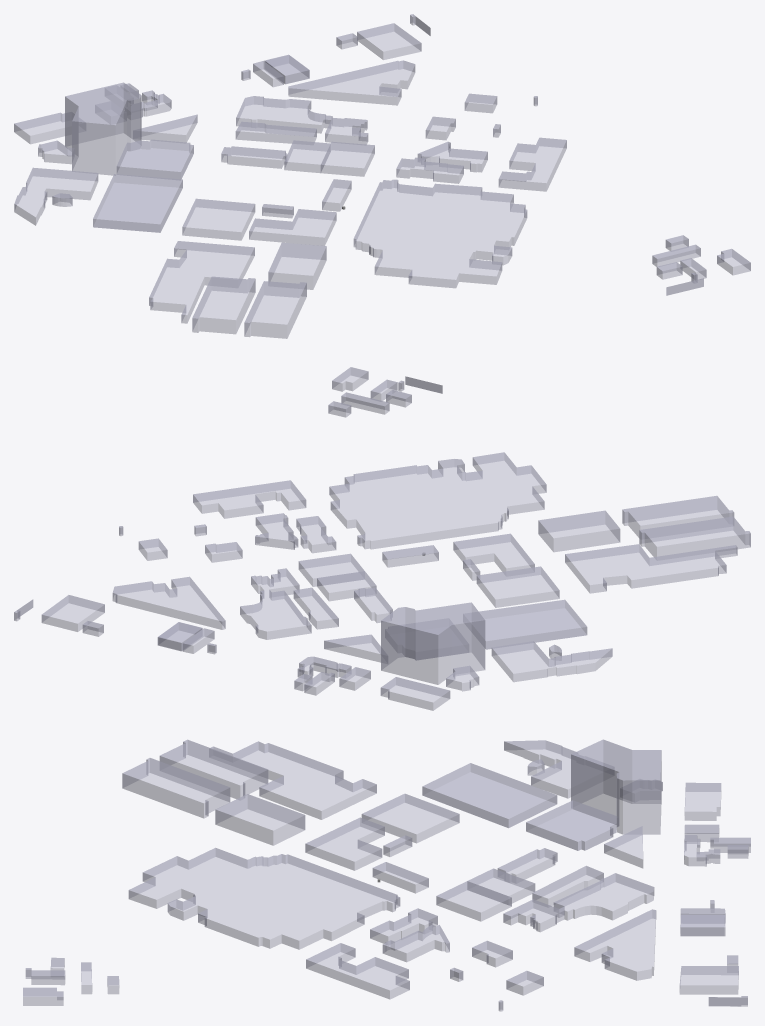
File: tile-buildings(-84.385000,33.750000,-84.380000,33.755000).osm.obj.postprocessed.obj
The picture shows the model from 3 angles, top to bottom: view 1: azimuth 30°, elevation 25°; view 2: azimuth 150°, elevation 25°; view 3: azimuth 270°, elevation 25°; orthographic projection. The views are drawn at different scales.
Visible parts, largest first — view 1: Building_Grady_Memorial_Hospital, Building_University_Lofts, Building_Student_Recreation_Center, Building_M_Deck, Building19, Building16, SurfaceParking_M_Deck, Building_N_Deck, Building_K_Deck, Building_Dahlberg_Hall, Building_Loft_Parking, Building15 (+22 smaller); view 2: Building_Grady_Memorial_Hospital, Building_University_Lofts, Building_Student_Recreation_Center, Building_M_Deck, Building19, Building16, Building_N_Deck, Building_Dahlberg_Hall, SurfaceParking_M_Deck, Building15, Building_S_Deck, Building_K_Deck (+21 smaller); view 3: Building_Grady_Memorial_Hospital, Building_University_Lofts, Building_Student_Recreation_Center, Building_M_Deck, Building16, Building_K_Deck, SurfaceParking_M_Deck, Building19, Building_N_Deck, Building15, Building_Loft_Parking, Building_S_Deck (+23 smaller).
Boxes of the visible parts, x1,y1,x2,y2 form: Building_Grady_Memorial_Hospital: [353, 179, 527, 288]; Building_University_Lofts: [65, 82, 141, 175]; Building_Student_Recreation_Center: [149, 241, 254, 323]; Building_M_Deck: [93, 174, 182, 232]; Building19: [288, 60, 415, 105]; Building16: [236, 96, 368, 144]; SurfaceParking_M_Deck: [93, 183, 182, 232]; Building_N_Deck: [192, 276, 255, 334]; Building_K_Deck: [244, 281, 306, 338]; Building_Dahlberg_Hall: [14, 167, 98, 225]; Building_Loft_Parking: [116, 139, 193, 179]; Building15: [498, 137, 566, 191]; Building_Grady_Memorial_Hospital: [329, 452, 546, 549]; Building_University_Lofts: [381, 602, 485, 684]; Building_Student_Recreation_Center: [565, 544, 737, 593]; Building_M_Deck: [463, 599, 587, 649]; Building19: [112, 576, 225, 629]; Building16: [240, 568, 311, 639]; Building_N_Deck: [639, 516, 750, 556]; Building_Dahlberg_Hall: [491, 641, 612, 682]; SurfaceParking_M_Deck: [485, 608, 586, 649]; Building15: [193, 480, 306, 518]; Building_S_Deck: [538, 510, 620, 552]; Building_K_Deck: [622, 495, 734, 537]; Building_Grady_Memorial_Hospital: [128, 847, 400, 949]; Building_University_Lofts: [571, 739, 661, 834]; Building_Student_Recreation_Center: [209, 741, 376, 819]; Building_M_Deck: [422, 763, 557, 827]; Building16: [503, 873, 654, 932]; Building_K_Deck: [122, 758, 230, 818]; SurfaceParking_M_Deck: [423, 772, 556, 827]; Building19: [574, 909, 656, 980]; Building_N_Deck: [159, 739, 268, 799]; Building15: [306, 943, 409, 999]; Building_Loft_Parking: [526, 800, 618, 850]; Building_S_Deck: [215, 794, 305, 845].
Size of the model in its own units: 462 by 45.5 by 549.
